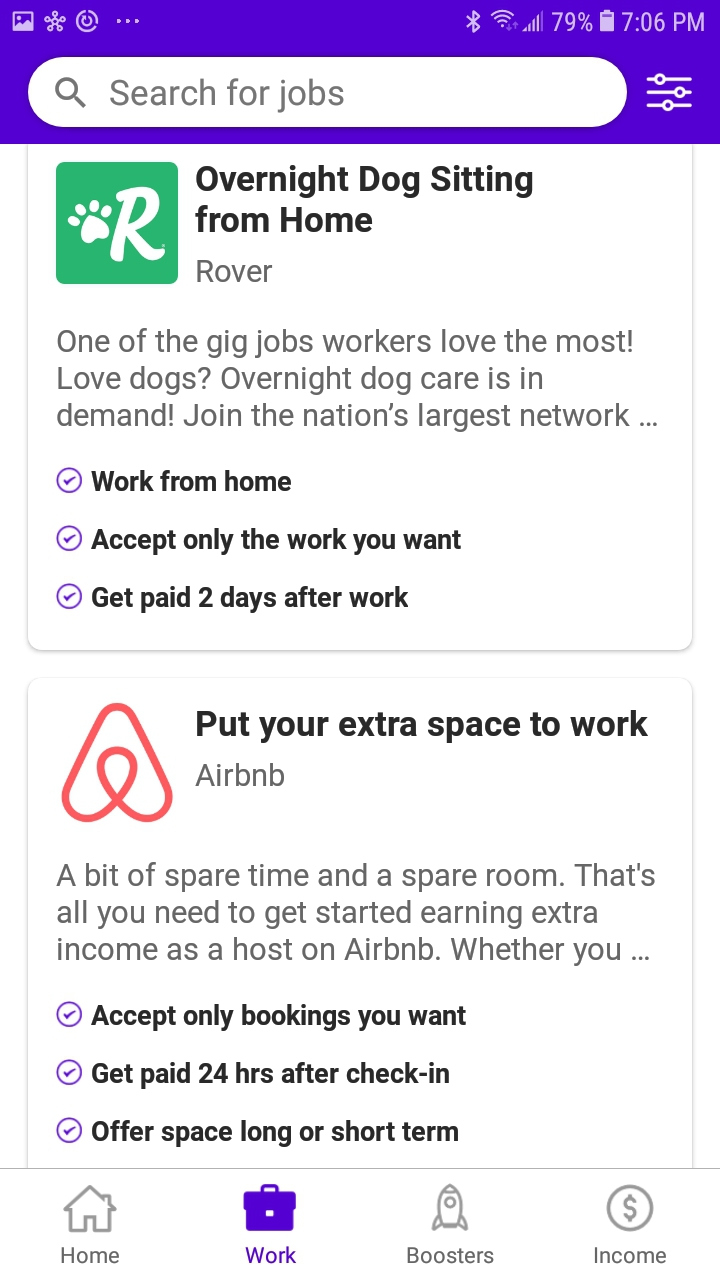CheckedTextView: (56, 1000, 467, 1032), (56, 524, 462, 556), (56, 1116, 459, 1148), (56, 1059, 449, 1090), (57, 583, 409, 614), (56, 467, 292, 494)
EditText: (28, 57, 628, 129)
Icon: (64, 1185, 118, 1233), (244, 1184, 297, 1231), (606, 1185, 654, 1232), (646, 73, 693, 113), (56, 78, 87, 109)
Image: (57, 163, 179, 285), (62, 703, 174, 822), (432, 1184, 469, 1231)
Text: (58, 328, 658, 433), (57, 862, 655, 966), (195, 165, 533, 233), (197, 710, 648, 745), (91, 527, 462, 556), (92, 1004, 467, 1032), (93, 1119, 459, 1147), (93, 1062, 449, 1089), (92, 585, 409, 614), (111, 78, 345, 114), (92, 470, 292, 492), (196, 762, 286, 787), (198, 260, 273, 283), (407, 1247, 494, 1264), (595, 1247, 667, 1264), (62, 1246, 121, 1264), (245, 1245, 297, 1264)
UpperTaskBar: (1, 1, 720, 35)
